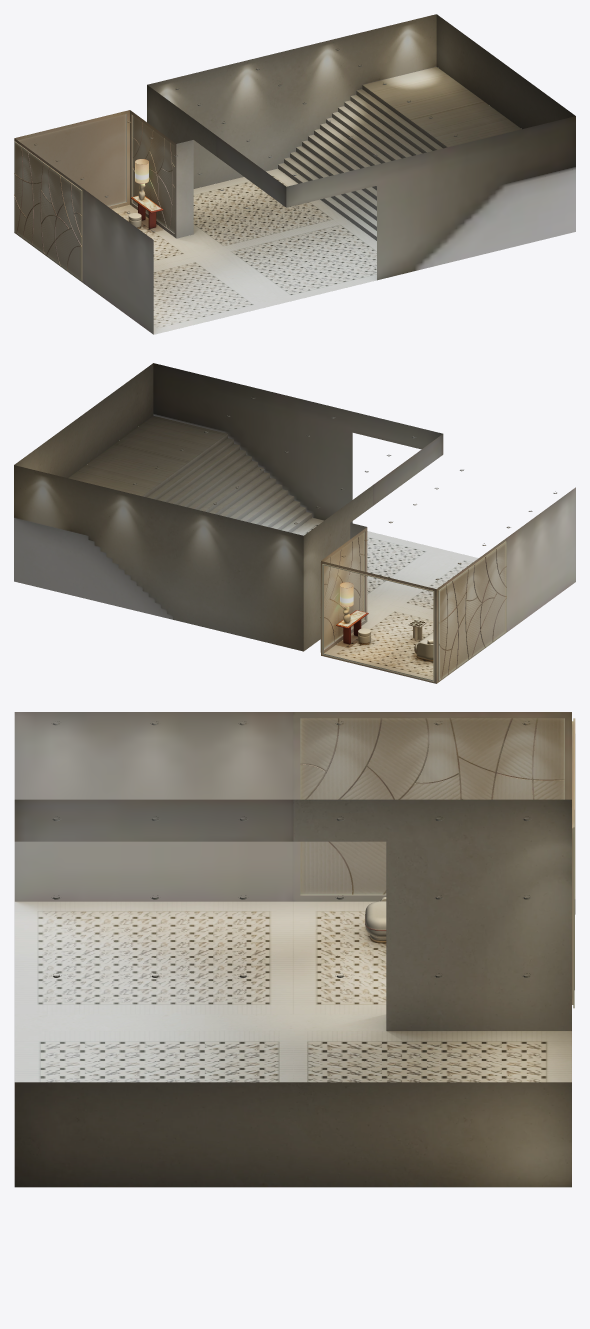
Rendered from pu_pov.glb.
The picture shows the model from 3 angles, top to bottom: view 1: azimuth 30°, elevation 25°; view 2: azimuth 150°, elevation 25°; view 3: azimuth 270°, elevation 25°; orthographic projection. The views are drawn at different scales.
Visible parts, largest first — view 1: pop_split-001_wall-001, pop_split-001_floor-001, pu_split-001_stair-001, pop_split-001_ledwall-001, pop_split-001_table-002; view 2: pop_split-001_wall-001, pu_split-001_stair-001, pop_split-001_floor-001, pop_split-001_table-002; view 3: pop_split-001_wall-001, pop_split-001_floor-001, pop_split-001_table-002.
Boxes of the visible parts, left/top/right/bottom form: pop_split-001_wall-001: left=14, top=14, right=575, bottom=334; pop_split-001_floor-001: left=112, top=168, right=376, bottom=334; pu_split-001_stair-001: left=34, top=48, right=521, bottom=240; pop_split-001_ledwall-001: left=18, top=114, right=126, bottom=206; pop_split-001_table-002: left=128, top=183, right=163, bottom=228; pop_split-001_wall-001: left=14, top=363, right=575, bottom=683; pu_split-001_stair-001: left=68, top=396, right=556, bottom=580; pop_split-001_floor-001: left=292, top=517, right=478, bottom=679; pop_split-001_table-002: left=336, top=607, right=433, bottom=661; pop_split-001_wall-001: left=14, top=712, right=575, bottom=1187; pop_split-001_floor-001: left=14, top=901, right=571, bottom=1082; pop_split-001_table-002: left=365, top=897, right=386, bottom=943.
Size of the model in its own units: 21.09 by 5.53 by 12.07.
7 materials, 6 textured.
